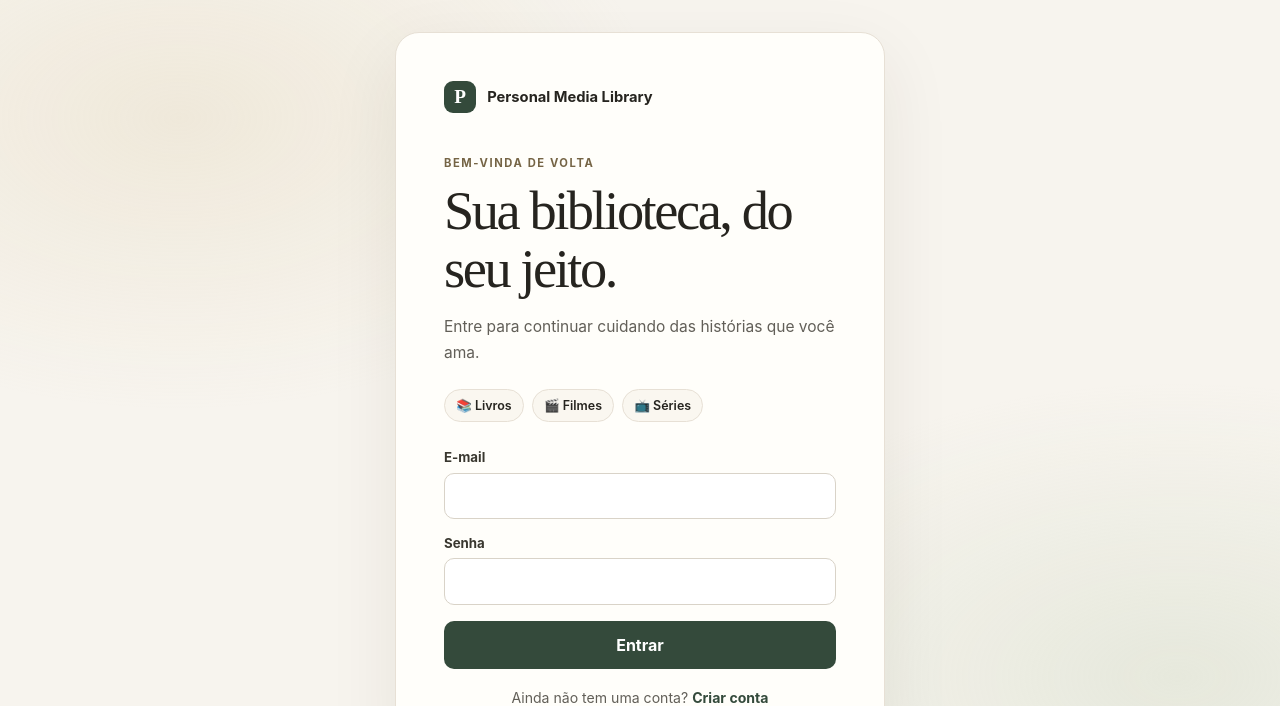
Test case: cenario2_loginAbreAreaPrivada › guarda o access token na sessão da aba e abre a área privada
The width and height of the screenshot is (1280, 706).
Step 1. Type "maria@example.com" into the field labelled "E-mail" → (640, 496), box top-left (444, 473), bottom-right (836, 519)
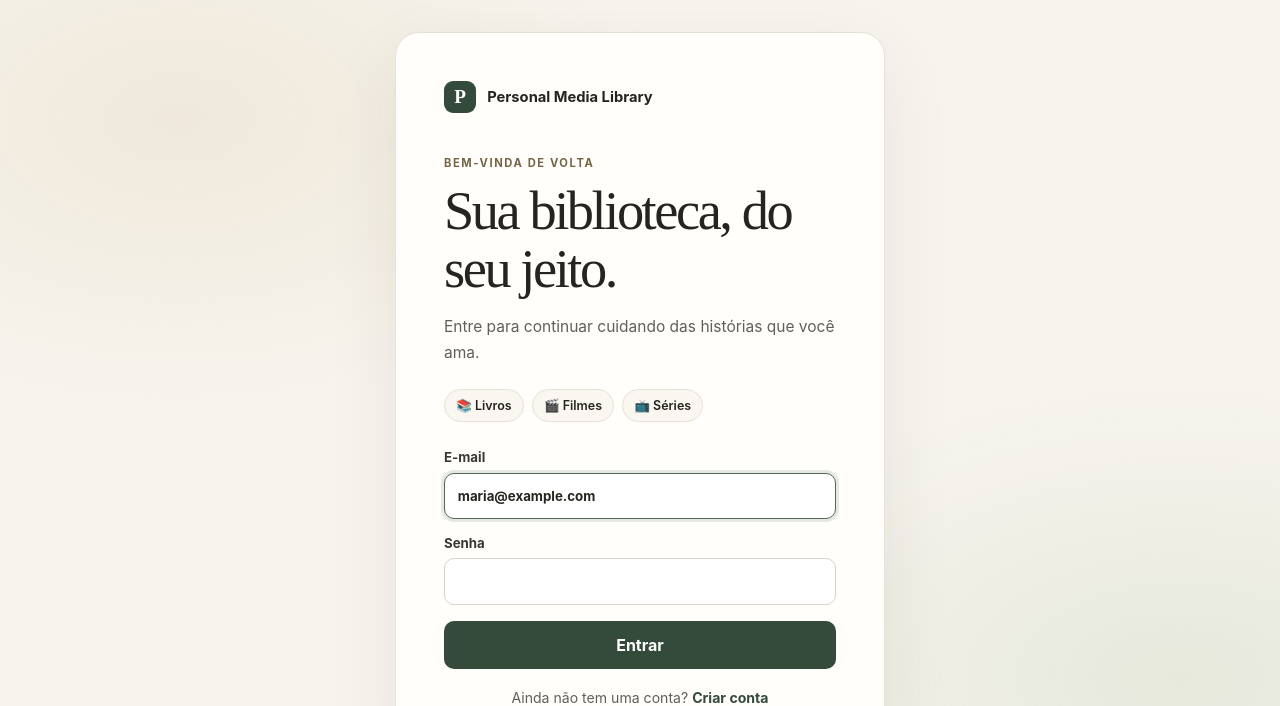
Step 2. Type "senha-segura-123" into the password field labelled "Senha" → (640, 582), box top-left (444, 558), bottom-right (836, 605)
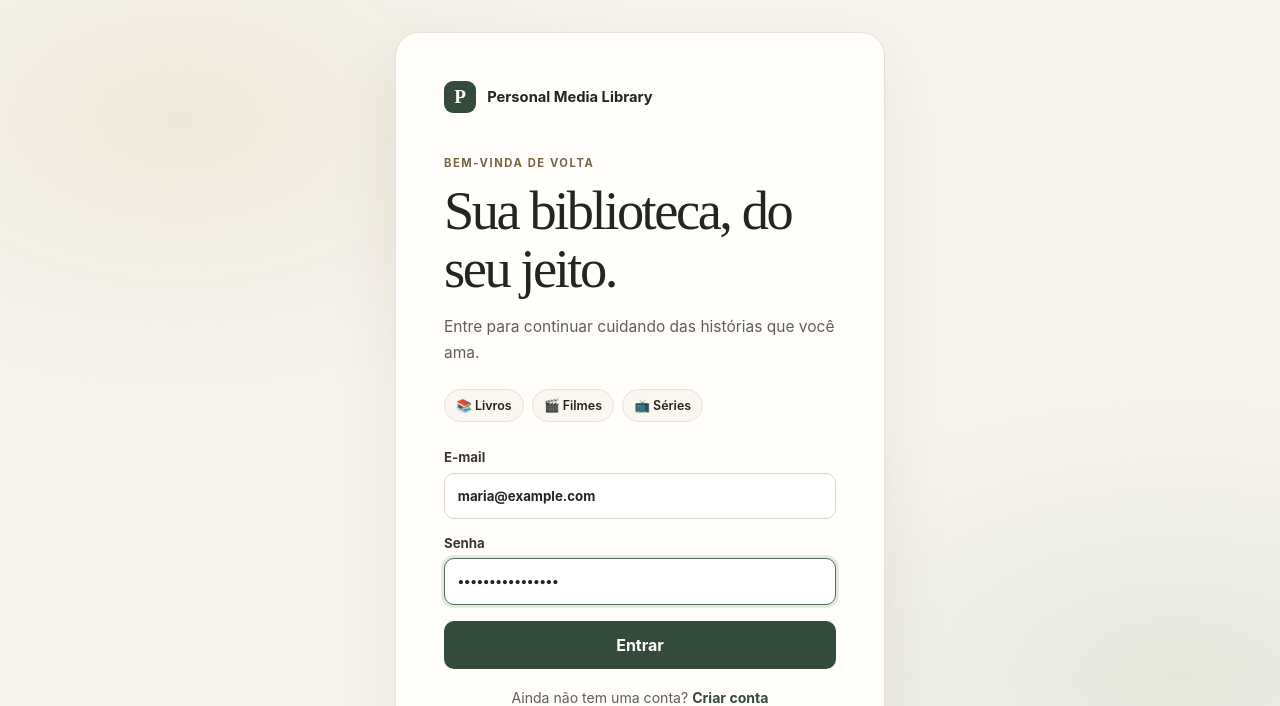
Step 3. Click the button "Entrar" → click(640, 645), box top-left (444, 621), bottom-right (836, 669)
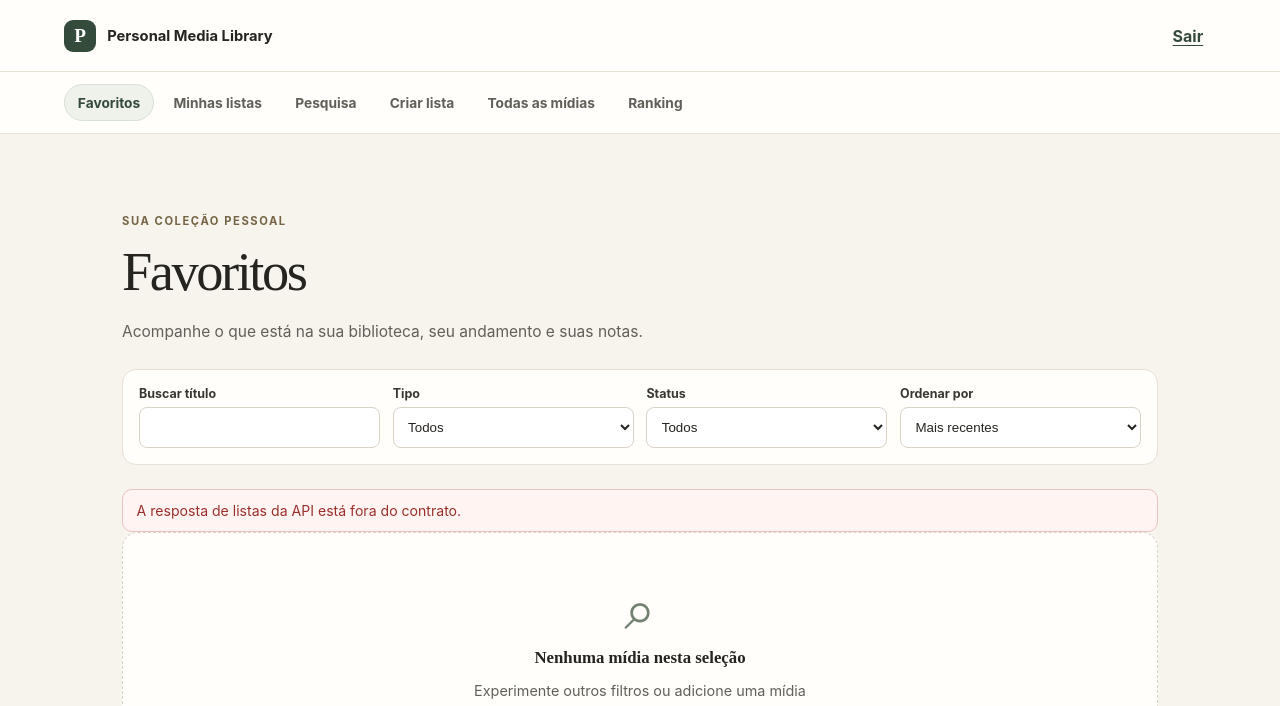
Check: the navigation bar named "navegação principal" is shown, box top-left (0, 72), bottom-right (1279, 134)
